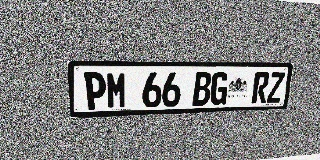6: (162, 72, 182, 107), (143, 72, 162, 108)
B: (192, 72, 212, 106)
G: (210, 72, 229, 105)
M: (106, 72, 127, 109)
P: (83, 72, 106, 110)
R: (251, 72, 270, 104)
Z: (266, 72, 285, 103)
